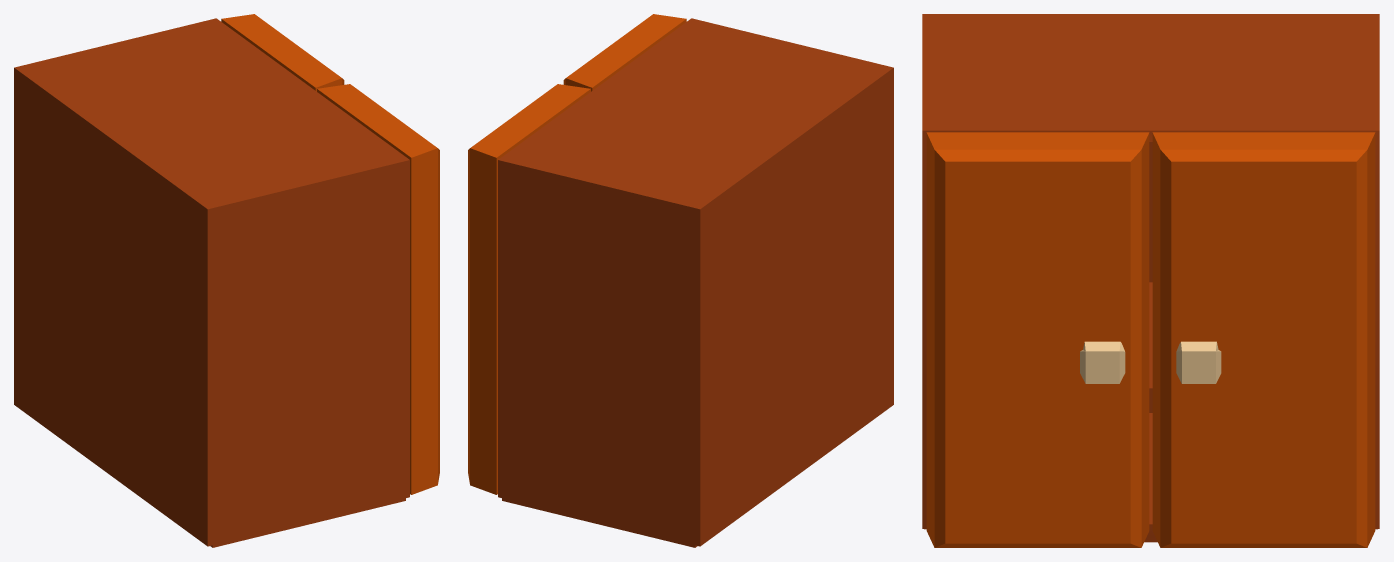
Rendered from cabinet.fbx.
3 renders of one model, left to right at view 1: azimuth 30°, elevation 25°; view 2: azimuth 150°, elevation 25°; view 3: azimuth 270°, elevation 25°, orthographic. The views are drawn at different scales.
Visible parts, largest first — view 1: cabinet_, door_R, door_L; view 2: cabinet_, door_L, door_R; view 3: door_L, door_R, cabinet_.
Boxes of the visible parts, left/top/right/bottom form: cabinet_: left=14, top=18, right=409, bottom=547; door_R: left=317, top=84, right=439, bottom=494; door_L: left=221, top=14, right=344, bottom=91; cabinet_: left=498, top=18, right=893, bottom=547; door_L: left=468, top=84, right=590, bottom=494; door_R: left=563, top=14, right=686, bottom=91; door_L: left=1152, top=132, right=1375, bottom=547; door_R: left=926, top=132, right=1149, bottom=547; cabinet_: left=922, top=14, right=1379, bottom=542.
Bounding box in the file's own units: 1.27 × 1.65 × 1.67.
